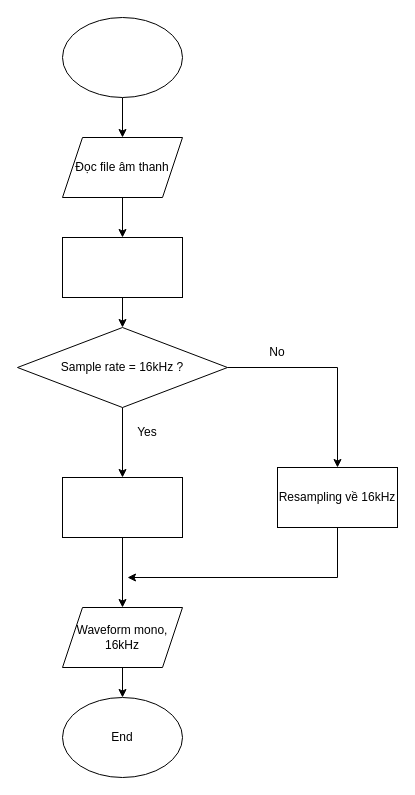
The diagram is 415 pixels wide and 795 high, and some of its shapes have lost their labels. Here are the shapes that lost their labels. From the top down, the box of each, then its label:
(62, 16, 182, 98): Start
(62, 236, 182, 298): Chuyển âm thanh về mono
(62, 476, 182, 538): Giữ nguyên tần số lấy mẫu
